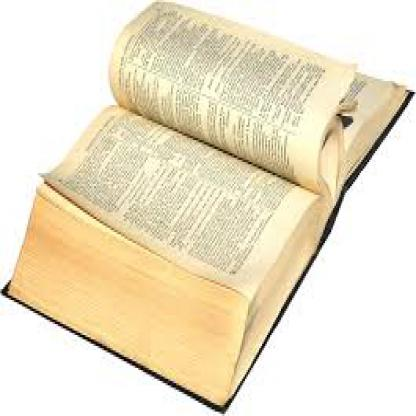paper: (0, 0, 415, 408), (34, 103, 316, 298), (107, 0, 356, 189)
